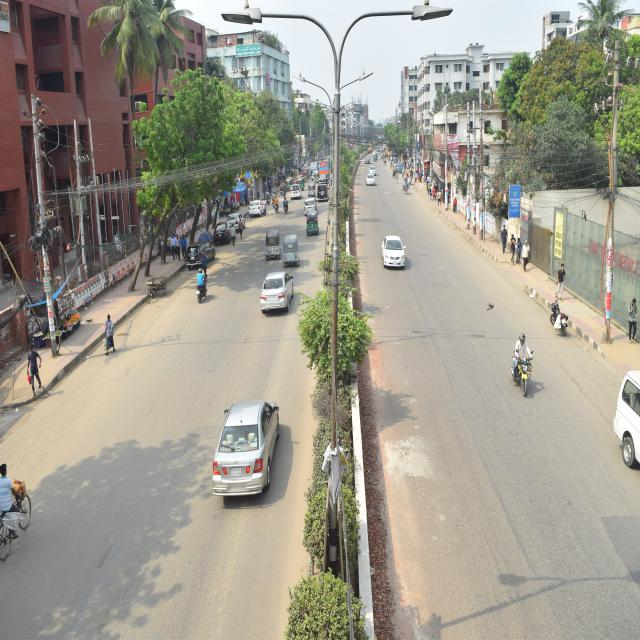car: (214, 378, 274, 532), (380, 230, 414, 287), (263, 270, 295, 310), (186, 236, 218, 272), (224, 191, 245, 241), (212, 217, 231, 254), (248, 191, 264, 221), (288, 184, 306, 200), (365, 171, 375, 196), (371, 159, 381, 183)
motorbike: (510, 332, 538, 394), (543, 300, 572, 340), (192, 268, 214, 306), (280, 192, 292, 213), (268, 196, 278, 211)
